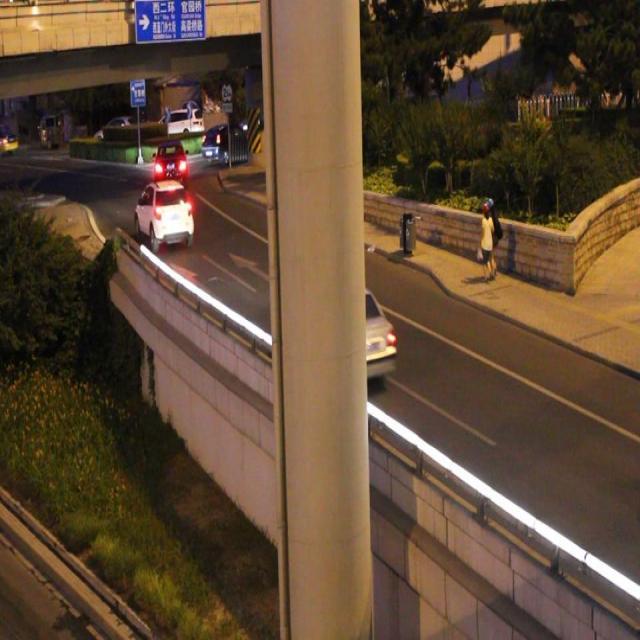car: (286, 276, 396, 384), (134, 179, 193, 246), (154, 144, 188, 188)
